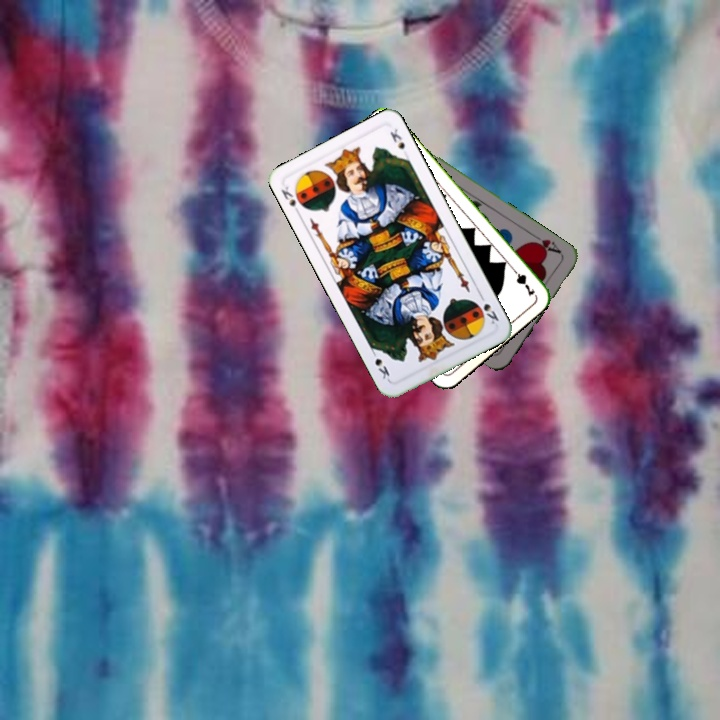G7: (507, 262, 538, 299)
HA: (527, 230, 564, 257)
SK: (475, 289, 502, 328), (277, 182, 303, 218)
